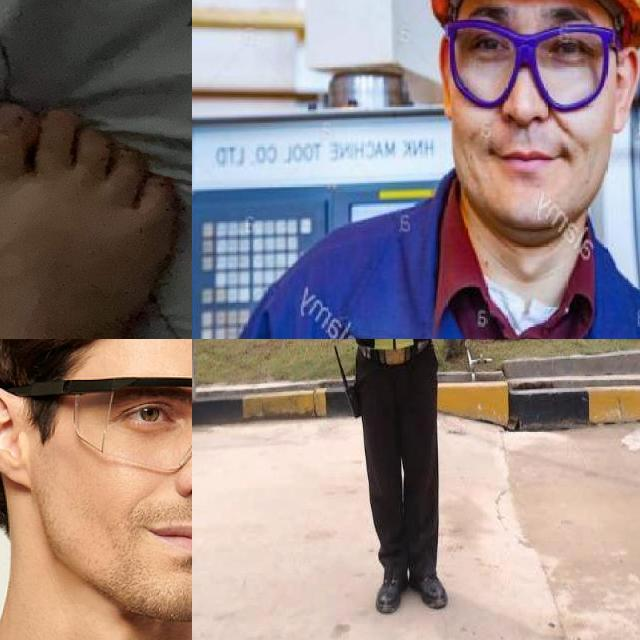Barefoots: (0, 94, 182, 339)
No_Ear-Protection: (0, 382, 37, 496), (427, 41, 460, 129), (608, 47, 640, 134)
No_Glasses: (446, 20, 621, 111)
boots: (407, 571, 451, 611), (375, 564, 408, 616)
face_nomask: (26, 459, 192, 623), (450, 71, 613, 229)
glasses: (8, 377, 192, 471)
person: (192, 339, 612, 631)
